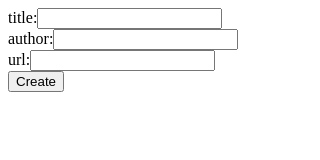
Test case: calls addBlog with correct details when a new blog is created
Type "New Blog Title" into the field labelled "title:".
click(130, 18); type("New Blog Title")  # box x1=37 y1=8 x2=222 y2=29
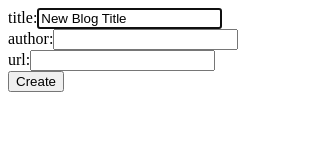
Type "Jane Author" into the field labelled "author:".
click(146, 40); type("Jane Author")  # box x1=53 y1=29 x2=238 y2=50
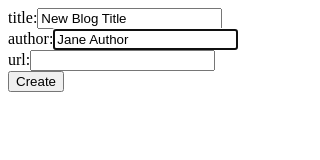
Type "https://newblog.example" into the field labelled "url:".
click(123, 60); type("https://newblog.example")  # box x1=30 y1=50 x2=215 y2=71
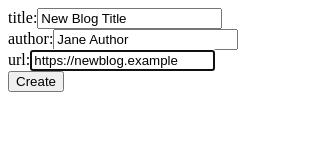
Click the button "Create".
click(36, 82)  # box x1=8 y1=71 x2=64 y2=92
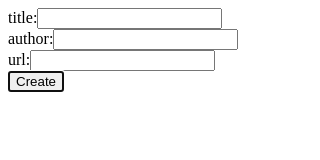
Now the field labelled "title:" is empty, box x1=37 y1=8 x2=222 y2=29
Now the field labelled "author:" is empty, box x1=53 y1=29 x2=238 y2=50
Now the field labelled "url:" is empty, box x1=30 y1=50 x2=215 y2=71
